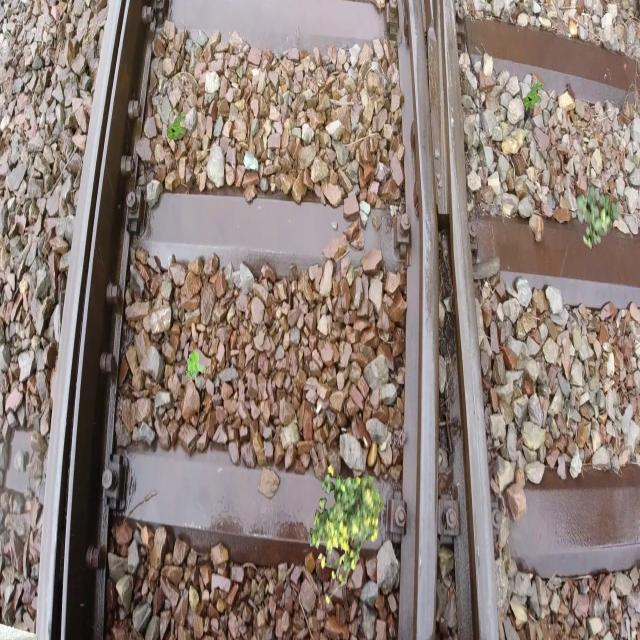Plant: (310, 465, 385, 605), (576, 184, 620, 250), (166, 111, 186, 144), (185, 350, 205, 383), (523, 80, 542, 112)
